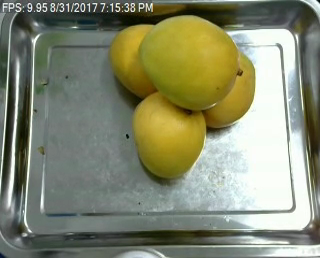Mango: (139, 14, 237, 106), (132, 90, 207, 181), (192, 41, 257, 129), (109, 22, 174, 97)
